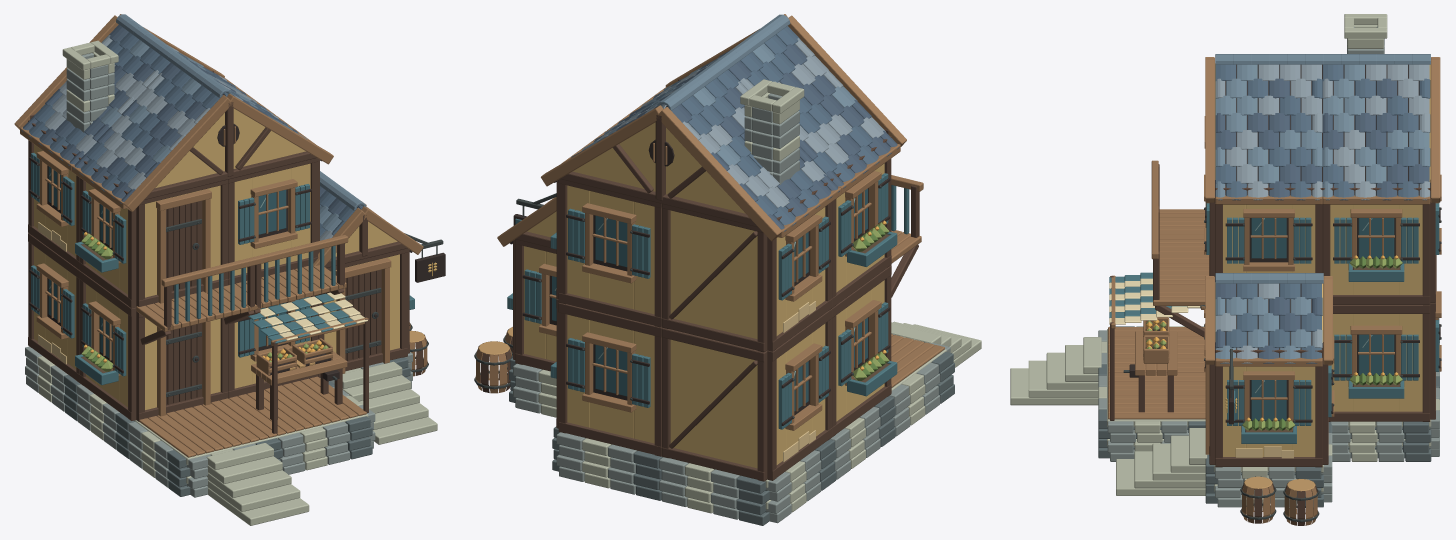
File: merchant_steps_default.glb
3 views of the same model, side by side, from view 1: azimuth 30°, elevation 25°; view 2: azimuth 150°, elevation 25°; view 3: azimuth 270°, elevation 25° (orthographic). The views are drawn at different scales.
Parts seen in each view (by area): view 1: roof_gable_4x2m__finish, roof_gable_4x2m__finish.001, gable_end_4m__structure, attachment_steps_080__attachments, attachment_balcony_2m__attachments, wall_door_2m__structure.002, wall_window_2m__finish.009, attachment_market_awning__attachments, wall_door_2m__finish.002, floor_cell_2m__structure.009, attachment_balcony_2m__attachments.001, attachment_steps_080__attachments.001 (+40 smaller); view 2: roof_gable_4x2m__finish, roof_gable_4x2m__finish.001, wall_plain_2m__finish, wall_plain_2m__finish.001, gable_end_4m__structure.001, wall_window_2m__finish.012, wall_window_2m__finish.004, wall_window_2m__structure.004, wall_window_2m__structure.012, wall_window_2m__structure.001, wall_plain_2m__structure, gable_end_4m__finish.001 (+33 smaller); view 3: roof_gable_4x2m__finish.001, roof_gable_4x2m__finish, roof_gable_2x2m__finish, wall_window_2m__finish.003, wall_window_2m__finish.011, wall_window_2m__finish.005, attachment_steps_080__attachments, attachment_steps_080__attachments.001, wall_window_2m__finish.010, wall_window_2m__structure.003, wall_window_2m__structure.005, wall_window_2m__structure.011 (+34 smaller).
Boxes of the visible parts, left/top/right/bottom form: roof_gable_4x2m__finish: left=73, top=52, right=307, bottom=203; roof_gable_4x2m__finish.001: left=21, top=14, right=273, bottom=165; gable_end_4m__structure: left=123, top=93, right=333, bottom=211; attachment_steps_080__attachments: left=206, top=443, right=309, bottom=525; attachment_balcony_2m__attachments: left=136, top=257, right=257, bottom=344; wall_door_2m__structure.002: left=136, top=179, right=228, bottom=306; wall_window_2m__finish.009: left=234, top=163, right=310, bottom=275; attachment_market_awning__attachments: left=248, top=292, right=368, bottom=433; wall_door_2m__finish.002: left=145, top=185, right=220, bottom=297; floor_cell_2m__structure.009: left=139, top=398, right=277, bottom=457; attachment_balcony_2m__attachments.001: left=229, top=235, right=348, bottom=323; attachment_steps_080__attachments.001: left=342, top=361, right=437, bottom=444; roof_gable_4x2m__finish: left=610, top=14, right=899, bottom=188; roof_gable_4x2m__finish.001: left=571, top=58, right=839, bottom=231; wall_plain_2m__finish: left=670, top=339, right=757, bottom=468; wall_plain_2m__finish.001: left=670, top=210, right=757, bottom=339; gable_end_4m__structure.001: left=541, top=105, right=782, bottom=241; wall_window_2m__finish.012: left=567, top=185, right=654, bottom=314; wall_window_2m__finish.004: left=567, top=314, right=654, bottom=443; wall_window_2m__structure.004: left=558, top=303, right=661, bottom=456; wall_window_2m__structure.012: left=558, top=179, right=661, bottom=327; wall_window_2m__structure.001: left=767, top=309, right=832, bottom=480; wall_plain_2m__structure: left=661, top=328, right=767, bottom=481; gable_end_4m__finish.001: left=573, top=122, right=745, bottom=213; roof_gable_4x2m__finish.001: left=1322, top=54, right=1430, bottom=200; roof_gable_4x2m__finish: left=1215, top=54, right=1323, bottom=200; roof_gable_2x2m__finish: left=1215, top=273, right=1323, bottom=363; wall_window_2m__finish.003: left=1331, top=314, right=1422, bottom=411; wall_window_2m__finish.011: left=1330, top=204, right=1422, bottom=294; wall_window_2m__finish.005: left=1223, top=366, right=1315, bottom=456; attachment_steps_080__attachments: left=1010, top=337, right=1101, bottom=405; attachment_steps_080__attachments.001: left=1116, top=428, right=1207, bottom=495; wall_window_2m__finish.010: left=1223, top=204, right=1315, bottom=272; wall_window_2m__structure.003: left=1328, top=305, right=1430, bottom=421; wall_window_2m__structure.005: left=1215, top=348, right=1322, bottom=467; wall_window_2m__structure.011: left=1322, top=186, right=1430, bottom=305.
Bounding box in the file's own units: 7.55 × 7.38 × 8.03.
